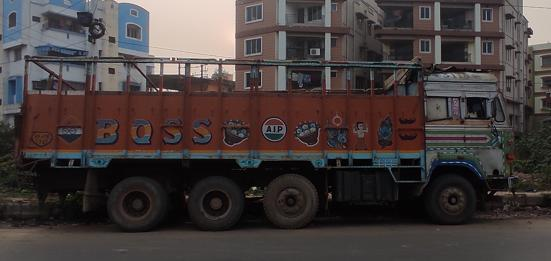Truck: (20, 53, 517, 236)
